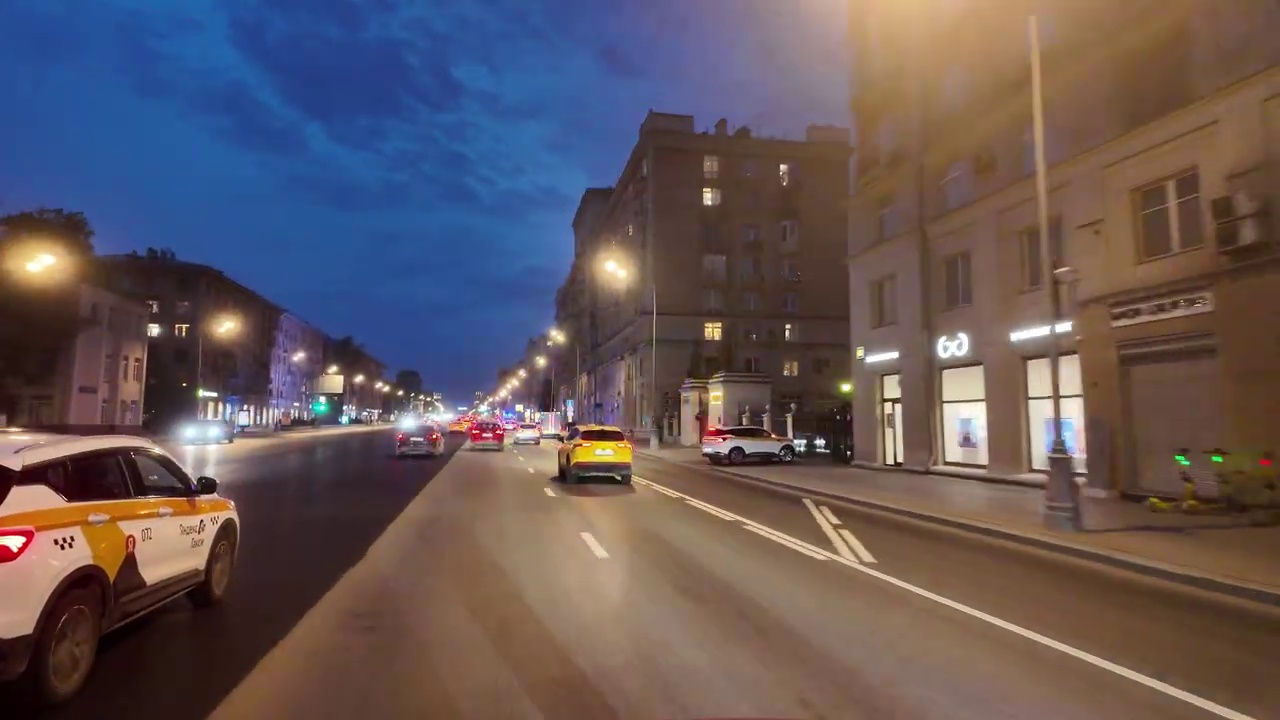acesa: (10, 242, 70, 287), (593, 248, 638, 292), (208, 313, 243, 342), (546, 326, 570, 348)
